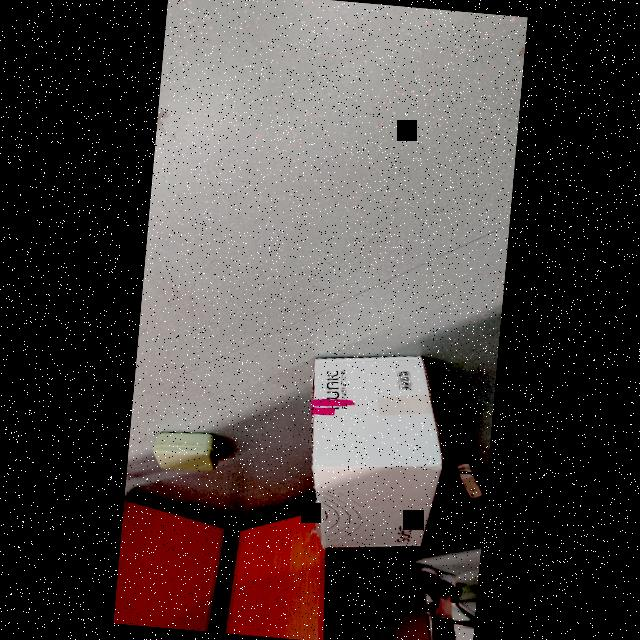cardboard_box: (291, 341, 465, 576), (144, 418, 234, 492)
